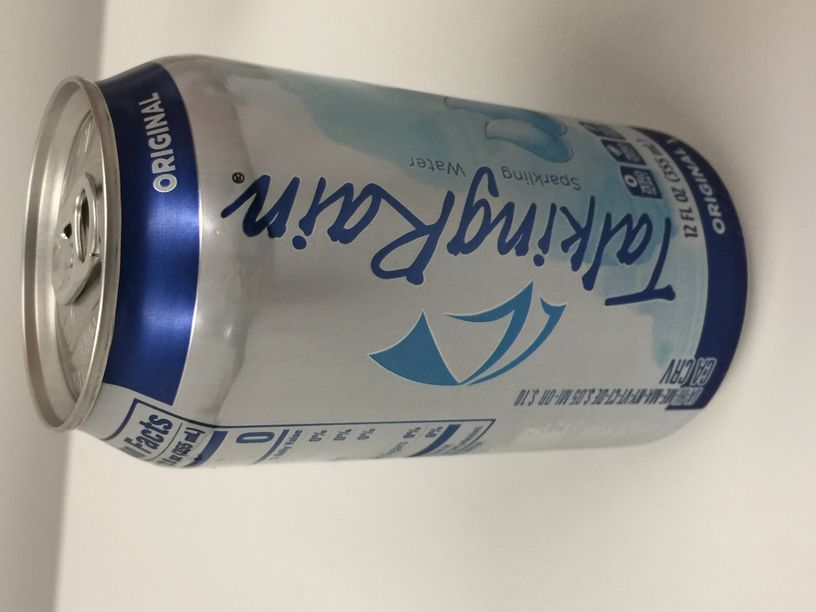competitor_02: (21, 55, 748, 468)
